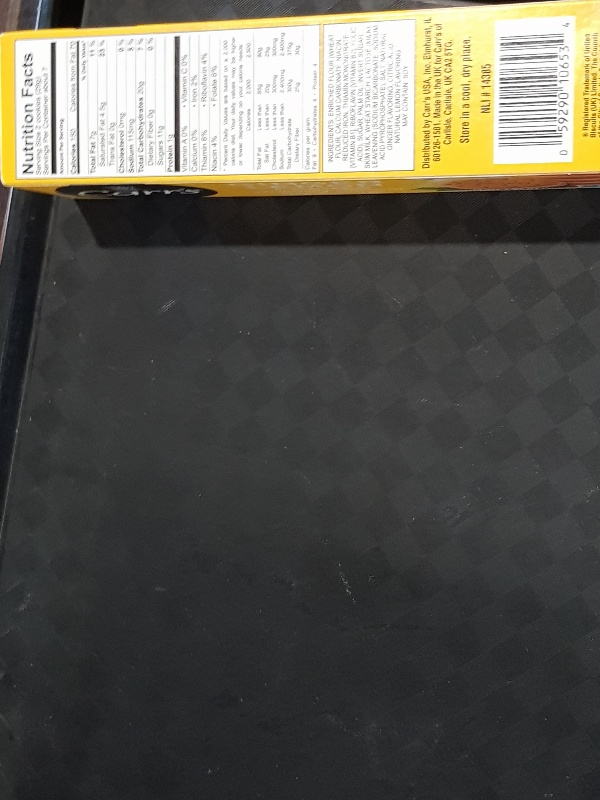Carr's Ginger Lemon Cremes: (2, 1, 600, 199)
